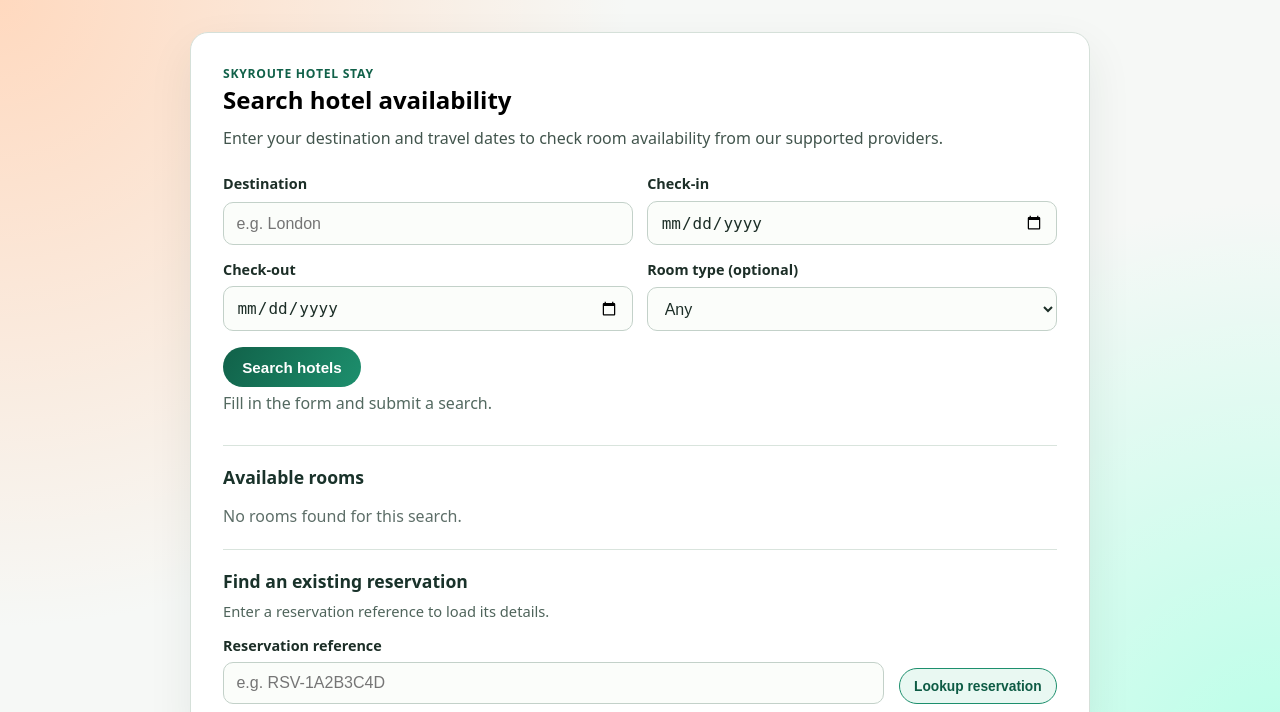
App — validation state › shows field errors when the form is submitted empty
The image size is (1280, 712).
What coordinates should you click on to do the following:
click the button "Search hotels"
I would click on:
 (292, 367)
Its box is [223,347,361,387].
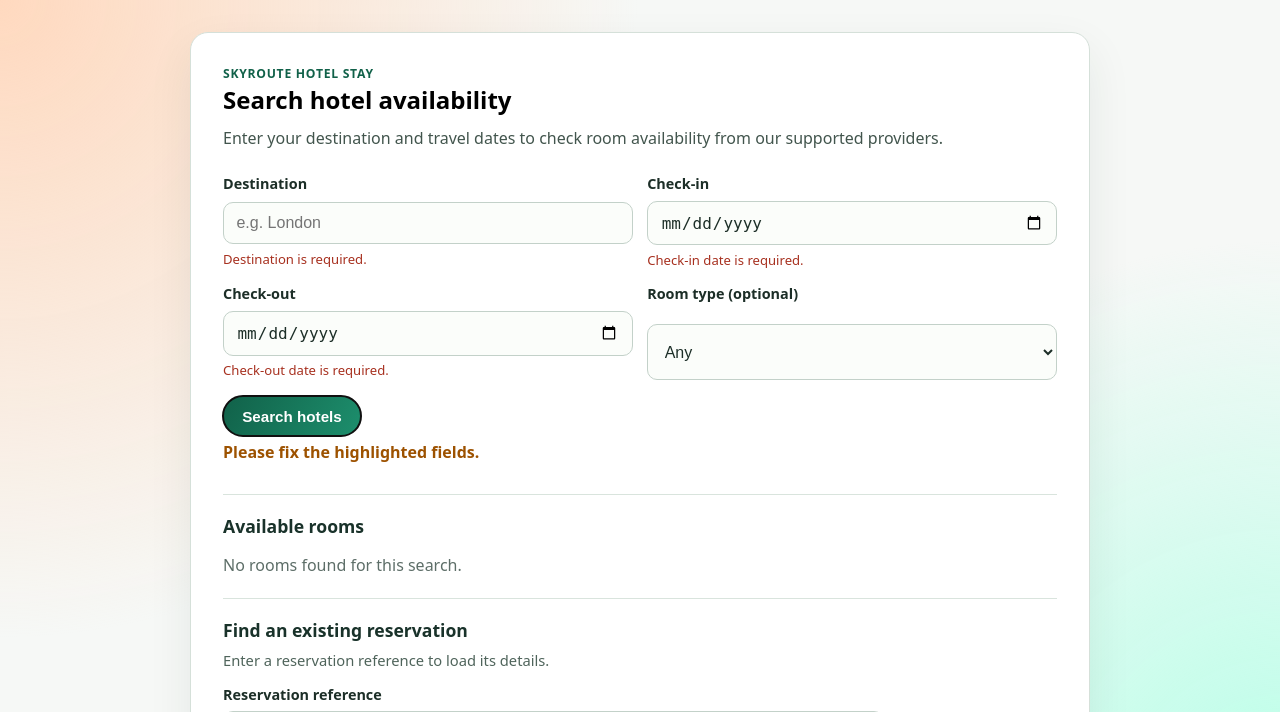
Expected: the text "Destination is required." is shown, [223,250,367,268]
Expected: the text "Check-in date is required." is shown, [647,251,804,269]
Expected: the text "Check-out date is required." is shown, [223,361,389,379]
